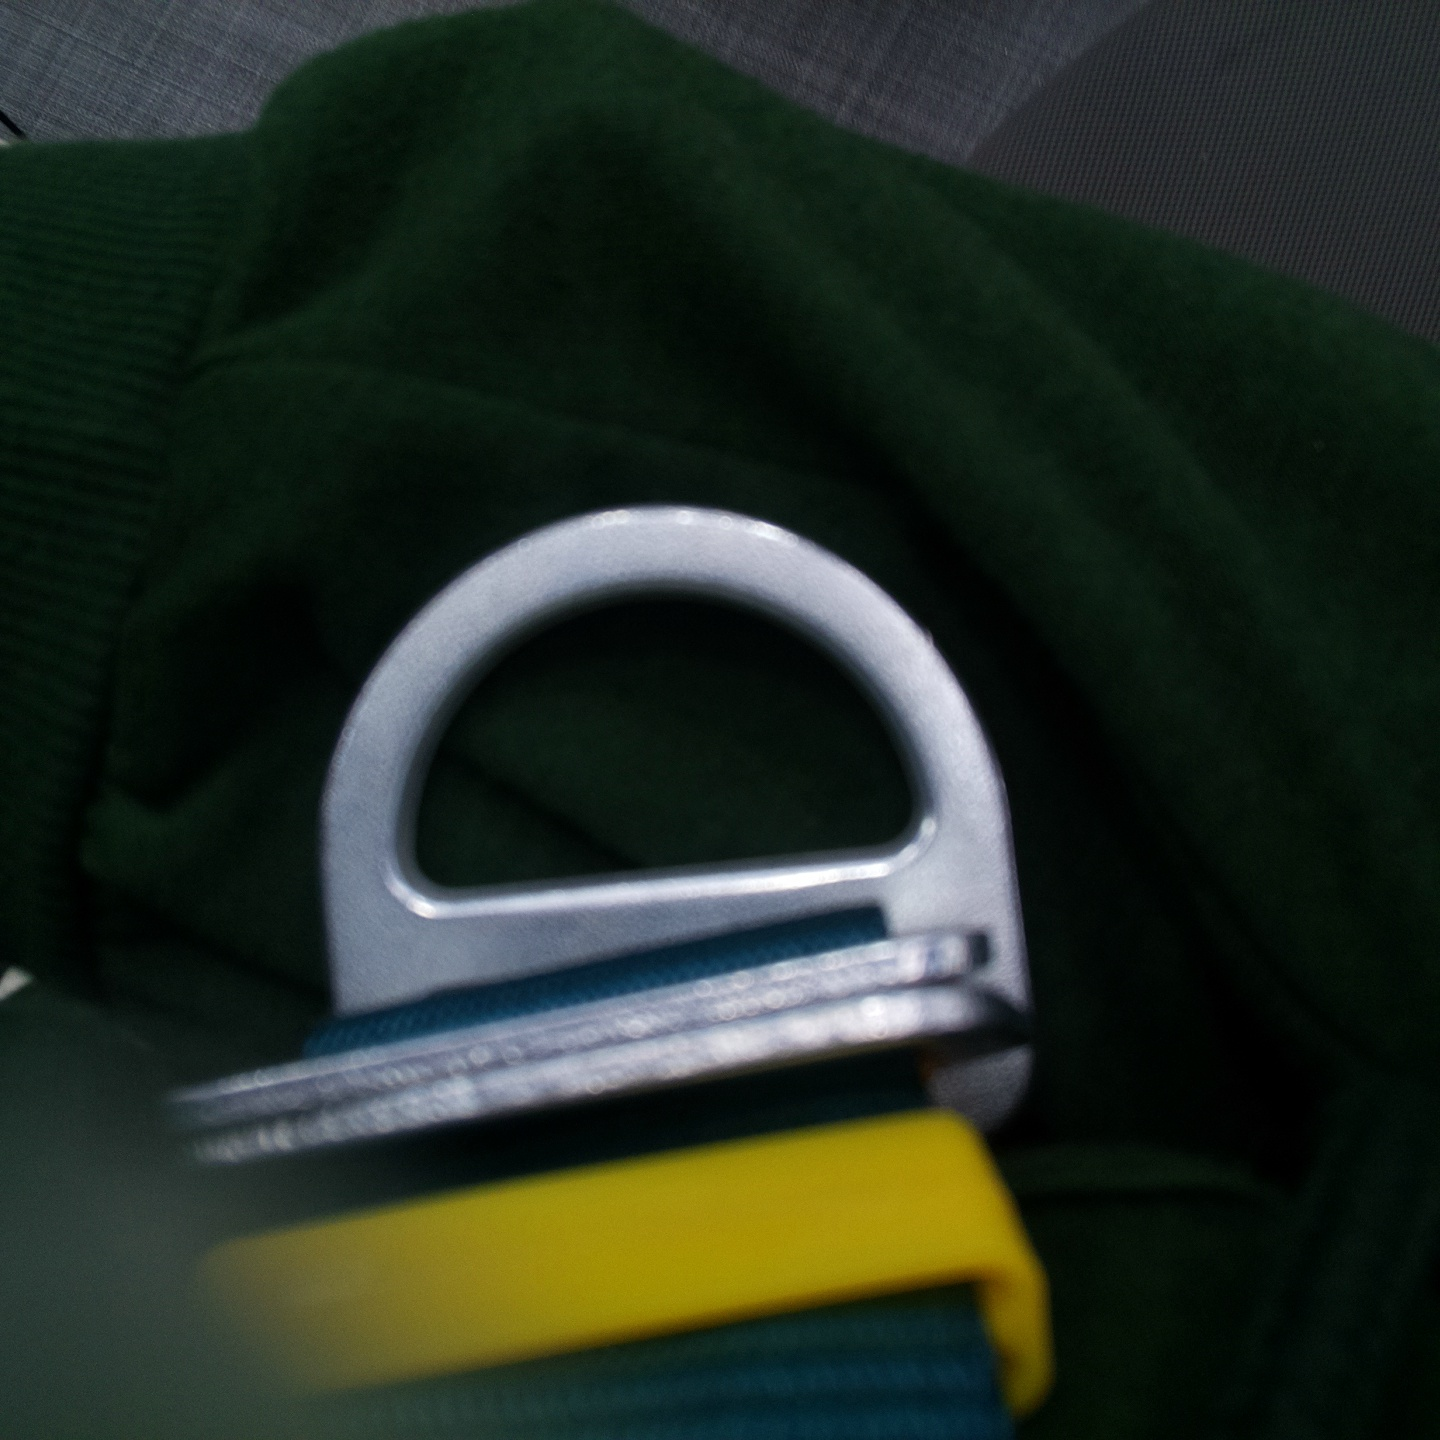UNSUCCESS: (179, 502, 1060, 940)
